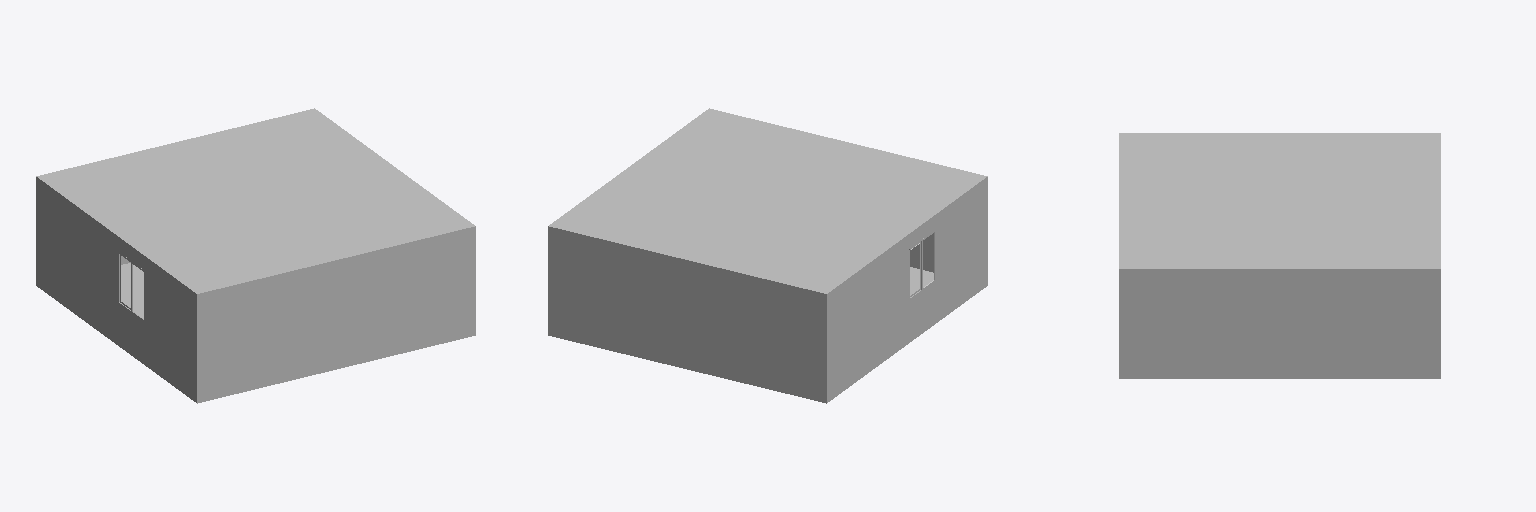
Rendered from Room.obj.
3 views of the same model, side by side, from view 1: azimuth 30°, elevation 25°; view 2: azimuth 150°, elevation 25°; view 3: azimuth 270°, elevation 25° (orthographic).
Parts seen in each view (by area): view 1: cube_cube.002; view 2: cube_cube.002; view 3: cube_cube.002.
Part boxes in pixels (x1,y1,x2,y2): cube_cube.002: (36,108,475,403); cube_cube.002: (548,108,987,403); cube_cube.002: (1119,133,1440,378).
Size of the model in its own units: 8 by 3 by 8.